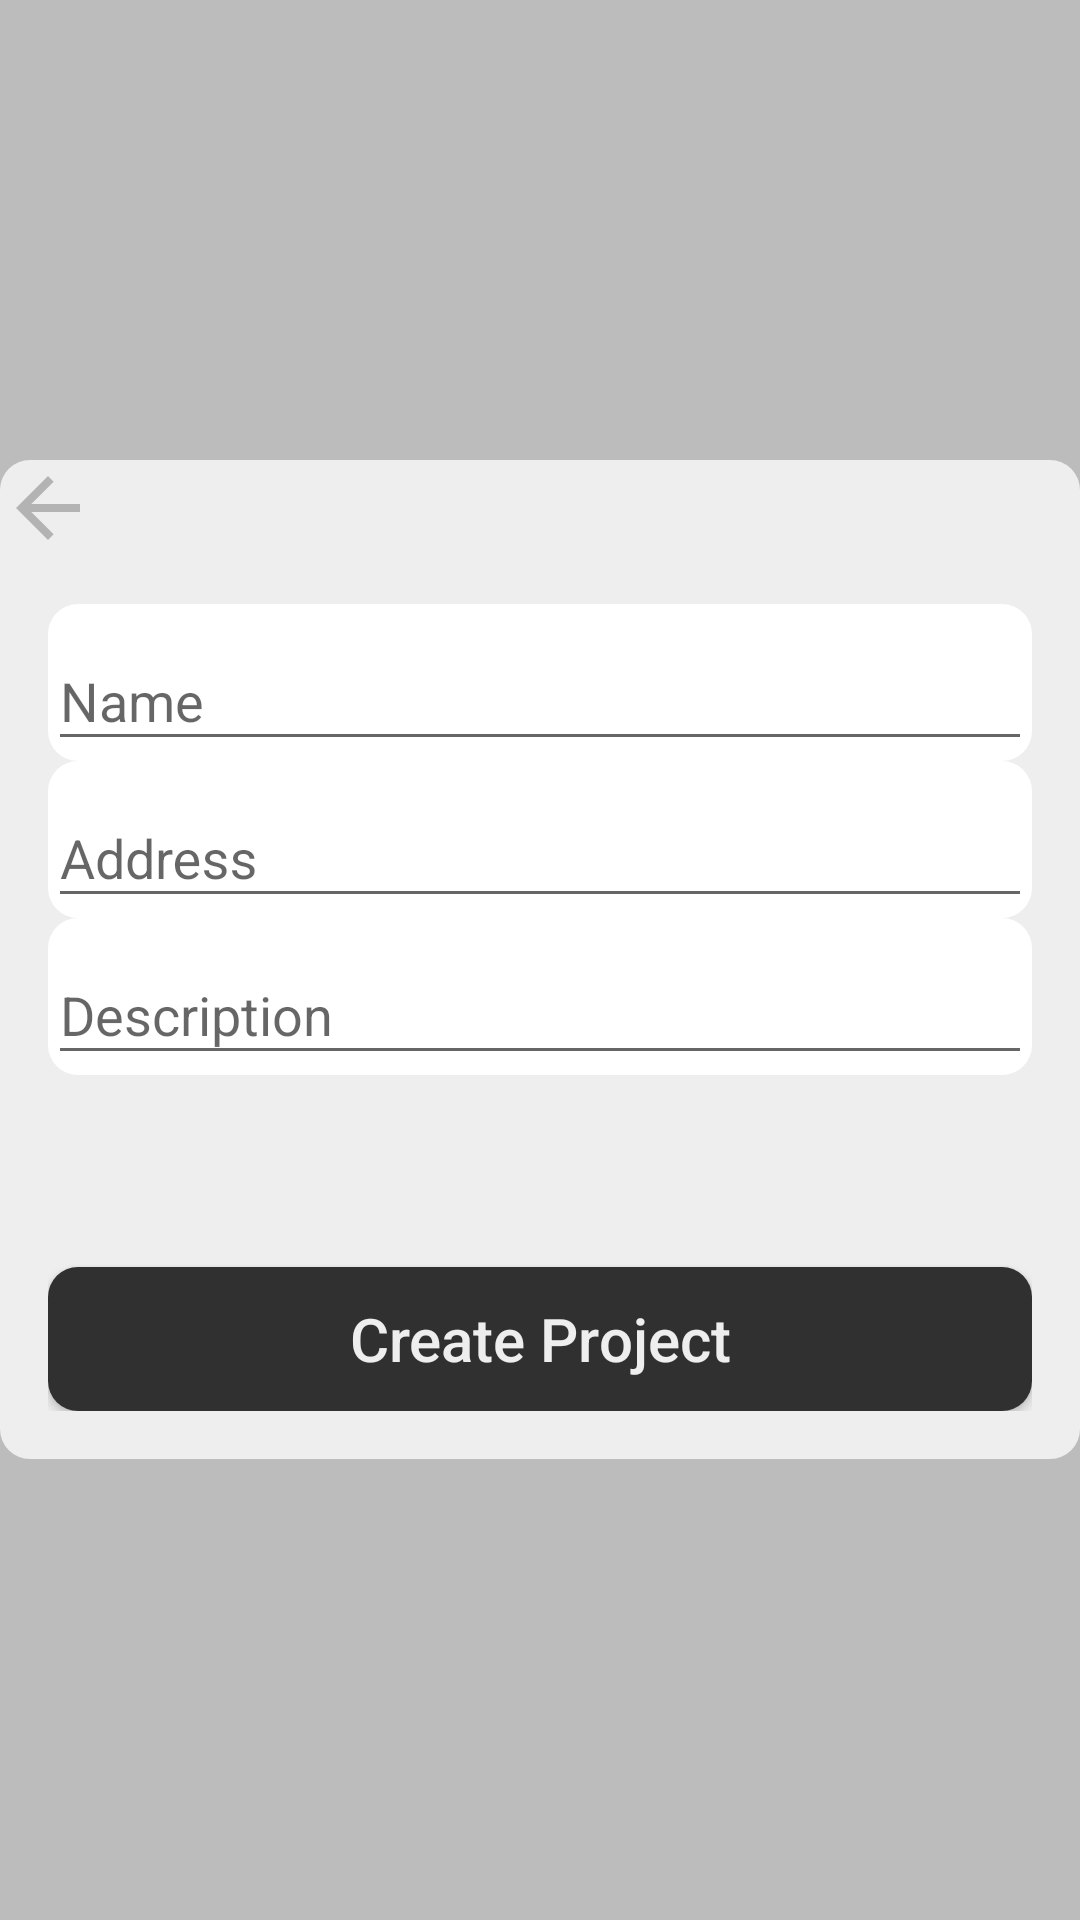

Point at icon controls on the screen. Image size 1080*1920, points as [x,y].
back: [48,508]
